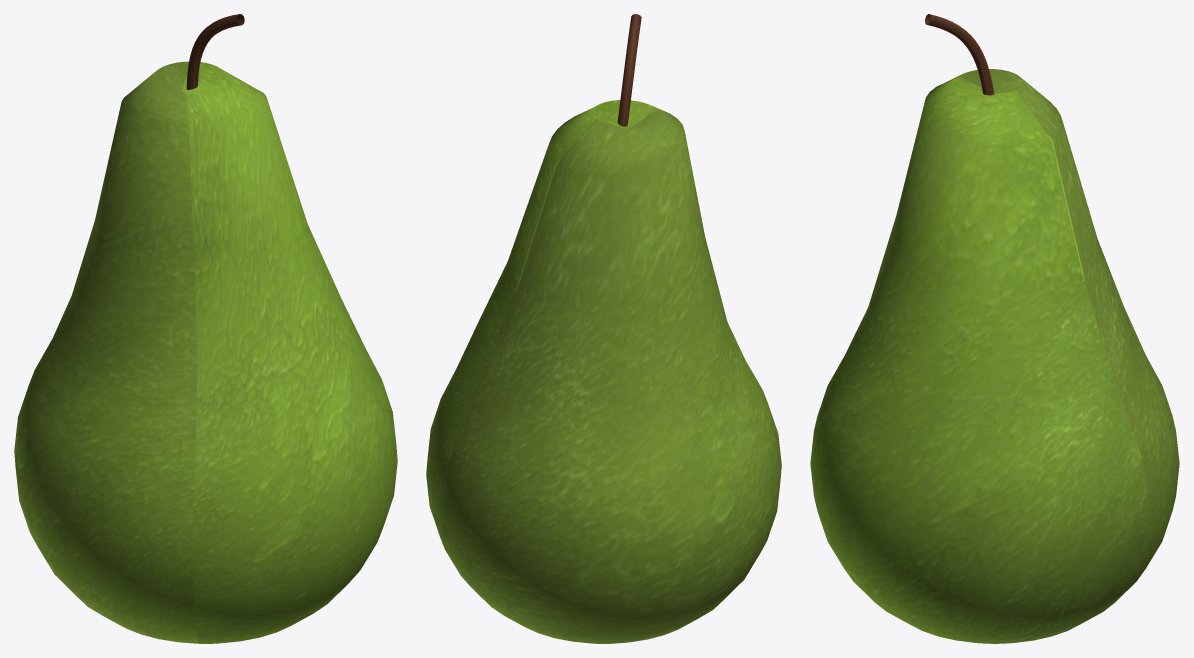
Rendered from alpukat.glb.
3 renders of one model, left to right at view 1: azimuth 30°, elevation 25°; view 2: azimuth 150°, elevation 25°; view 3: azimuth 270°, elevation 25°, orthographic. The views are drawn at different scales.
Parts seen in each view (by area): view 1: Sphere, NurbsPath; view 2: Sphere, NurbsPath; view 3: Sphere, NurbsPath.
Part boxes in pixels (left/top/right/bottom): Sphere: left=14, top=61, right=397, bottom=643; NurbsPath: left=186, top=14, right=244, bottom=89; Sphere: left=426, top=100, right=781, bottom=643; NurbsPath: left=617, top=14, right=641, bottom=126; Sphere: left=810, top=69, right=1179, bottom=643; NurbsPath: left=925, top=14, right=994, bottom=95.
Bounding box in the file's own units: 2 × 3.65 × 2.
Materials: 2 (2 with a texture image).
